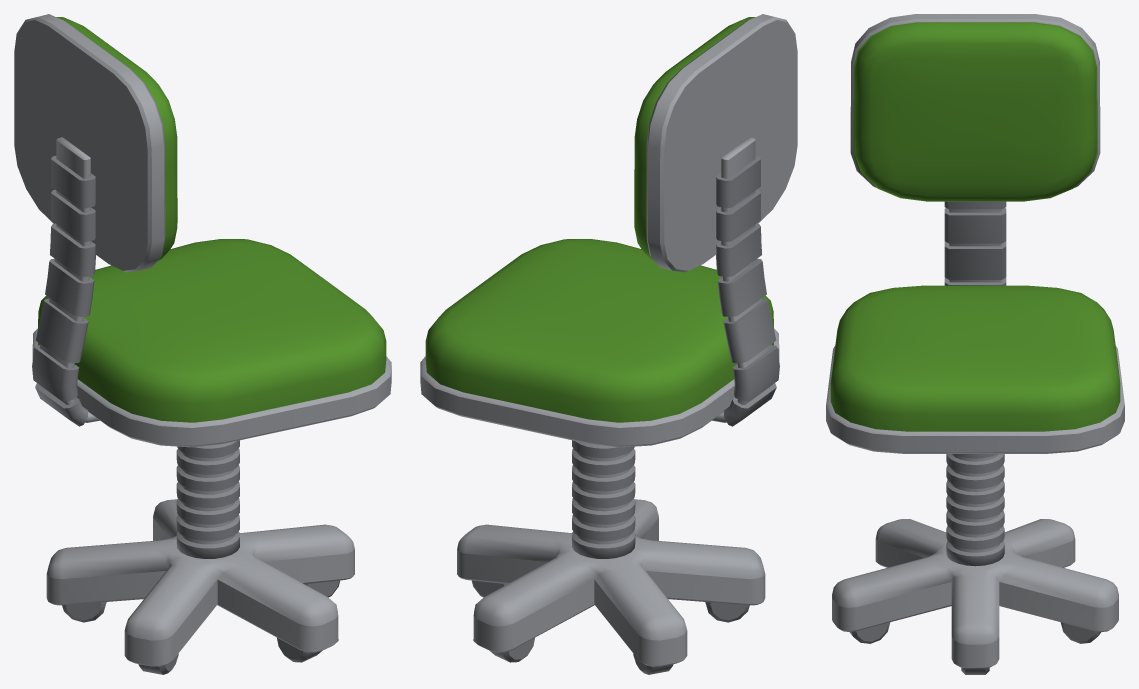
Rendered from Computer_Chair.glb.
3 views of the same model, side by side, from view 1: azimuth 30°, elevation 25°; view 2: azimuth 150°, elevation 25°; view 3: azimuth 270°, elevation 25° (orthographic). The views are drawn at different scales.
Parts seen in each view (by area): view 1: Computer_chair; view 2: Computer_chair; view 3: Computer_chair.
Part boxes in pixels (bbox=[...]): Computer_chair: bbox=[14, 14, 391, 674]; Computer_chair: bbox=[420, 14, 797, 674]; Computer_chair: bbox=[826, 14, 1124, 674].
Bounding box in the file's own units: 0.5517 × 1.06 × 0.5166.
Materials: 2 (1 with a texture image).
